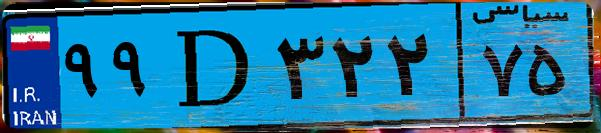2: (385, 28, 445, 110), (330, 28, 385, 110)
3: (270, 28, 330, 110)
5: (525, 38, 570, 115)
7: (475, 38, 525, 113)
9: (57, 26, 110, 100), (110, 28, 158, 98)
D: (158, 12, 270, 120)
